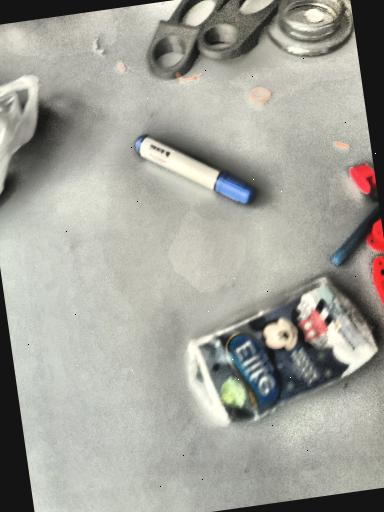marcador azul: (135, 135, 254, 204)
